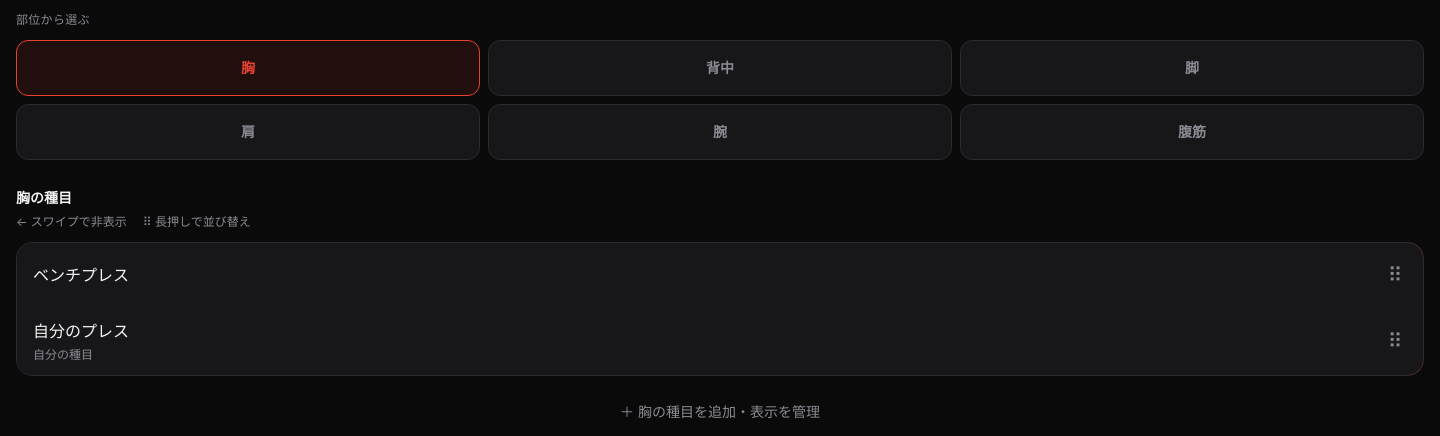
Scenario: ExercisePicker › shows only basic and personal exercises for the selected body part, without search
expect the button "ベンチプレス" is shown: met, box 17,243 -> 1367,307
expect the button "自分のプレス 自分の種目" is shown: met, box 17,307 -> 1367,375
Click the button "脚". click: (1192,68)
box: 960,40 -> 1424,96
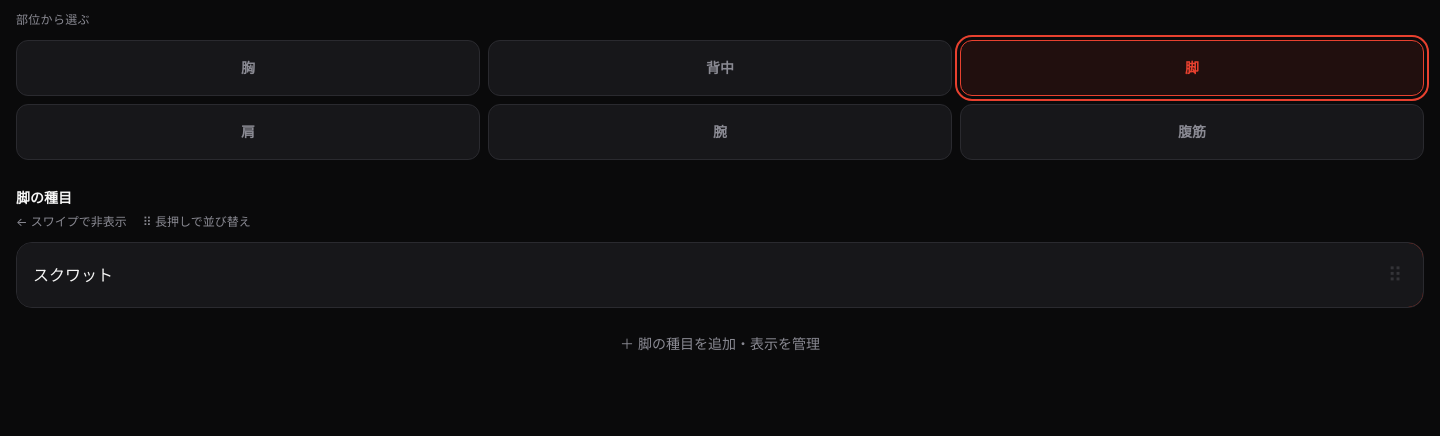
expect the button "スクワット" is shown: met, box 17,243 -> 1367,307
expect the button "ベンチプレス" is gone: met
